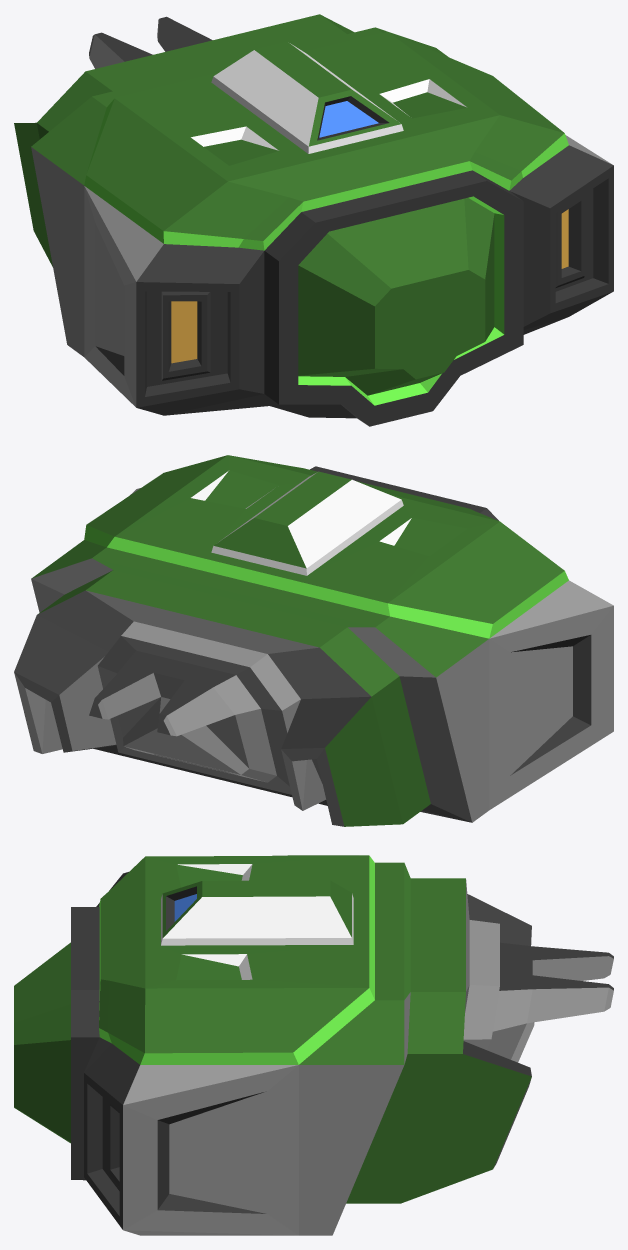
The model's file is Ship_2x2_B1.fbx.
3 renders of one model, top to bottom at view 1: azimuth 30°, elevation 25°; view 2: azimuth 150°, elevation 25°; view 3: azimuth 270°, elevation 25°, orthographic.
Visible parts, largest first — view 1: Ship_2x2_B1; view 2: Ship_2x2_B1; view 3: Ship_2x2_B1.
Boxes of the visible parts, x1,y1,x2,y2 form: Ship_2x2_B1: [14, 14, 613, 426]; Ship_2x2_B1: [14, 455, 613, 826]; Ship_2x2_B1: [14, 855, 613, 1235].
Size of the model in its own units: 172 by 102 by 188.
